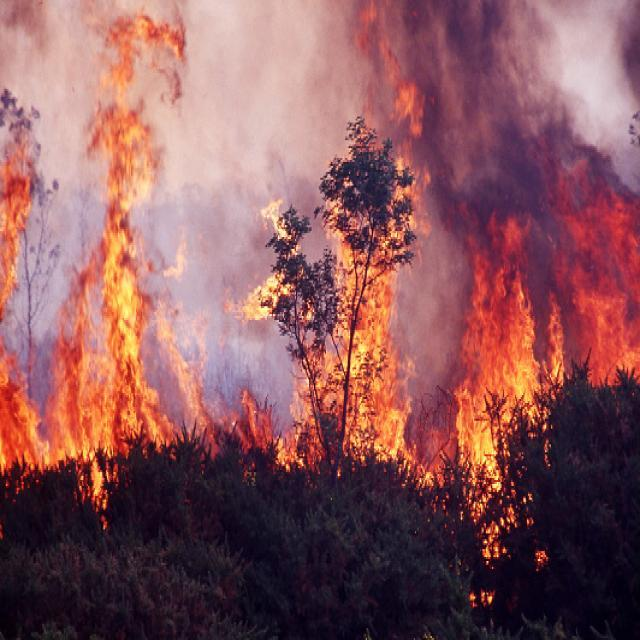Fire: (0, 15, 188, 463), (454, 167, 640, 452), (276, 143, 421, 476), (460, 454, 518, 560)
Smoke: (358, 3, 598, 170), (188, 16, 276, 406), (277, 2, 357, 140)
